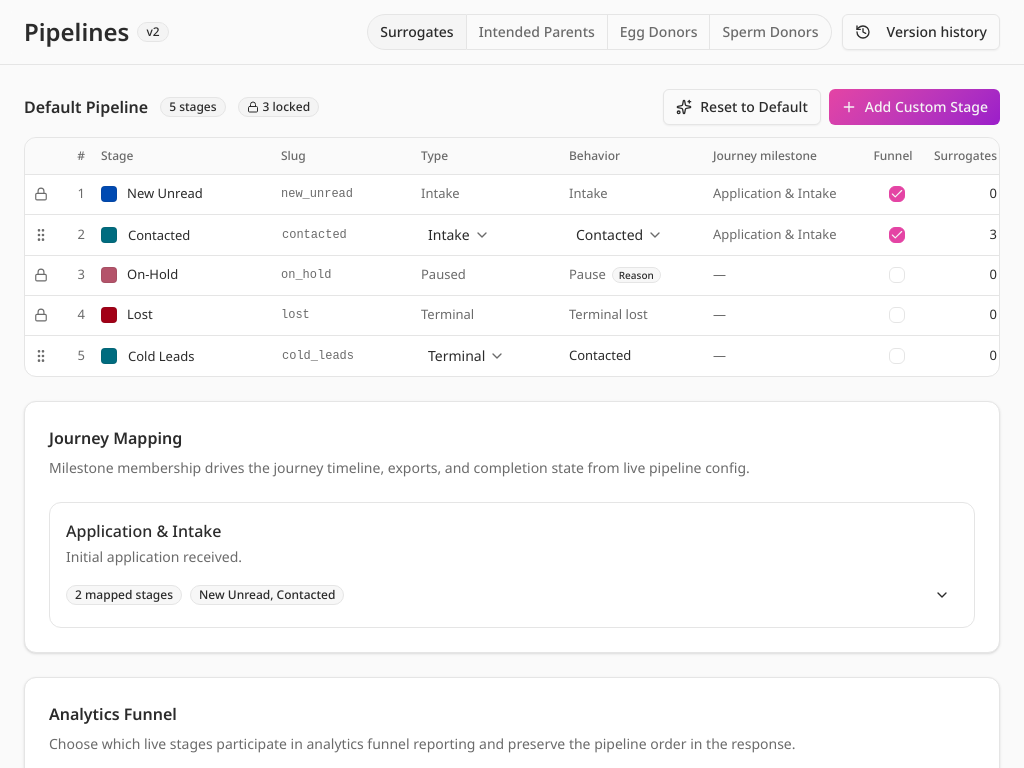
Test: PipelinesSettingsPage › labels stage categories and keeps the current category of an unlocked terminal stage
Check: the dropdown named "Stage 2 type" shows "Intake", box x1=421 y1=218 x2=497 y2=250
Check: the text "Terminal" next to "Terminal lost" is shown, box x1=421 y1=305 x2=474 y2=323
Step 1. Press the mouse on the dropdown named "Stage 5 type" → [467, 356], box x1=421 y1=340 x2=512 y2=372
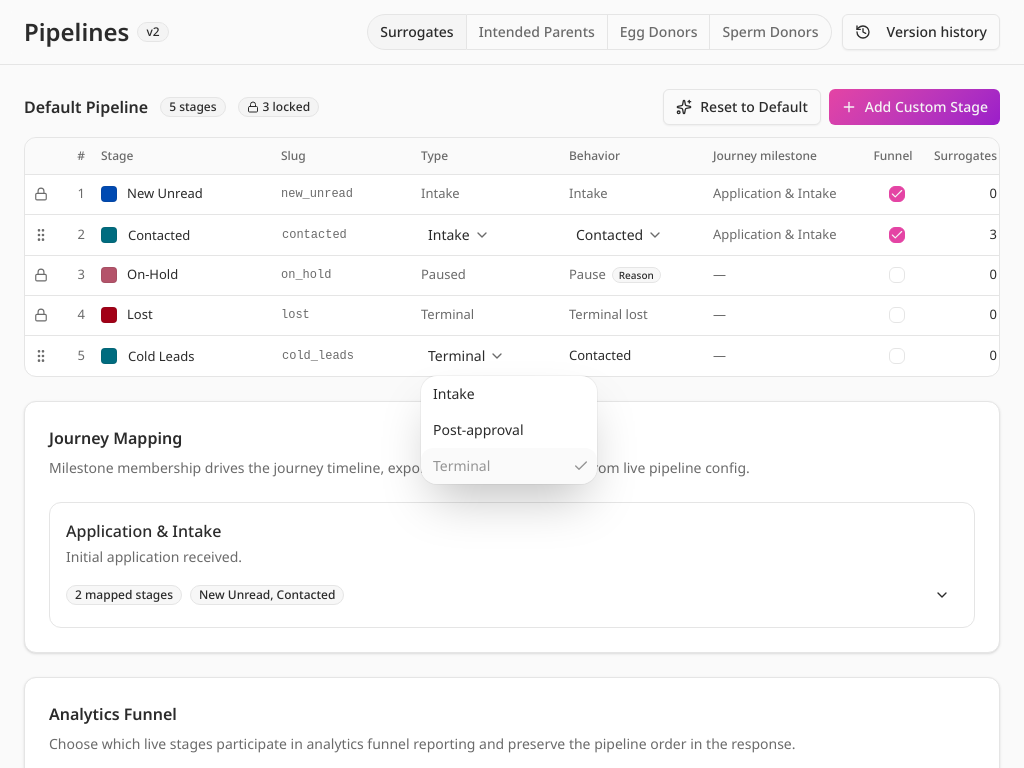
Check: the options read "Intake", "Post-approval", "Terminal", in this order, box x1=433 y1=384 x2=475 y2=403; x1=433 y1=420 x2=524 y2=439; x1=421 y1=448 x2=597 y2=484
